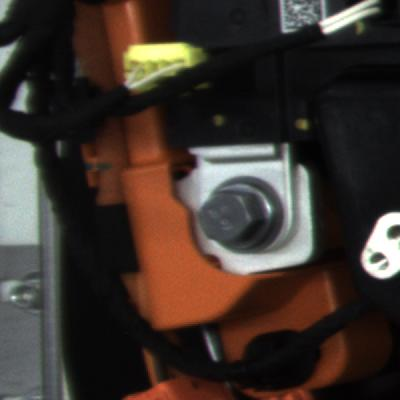nut_b: (181, 171, 306, 263)
